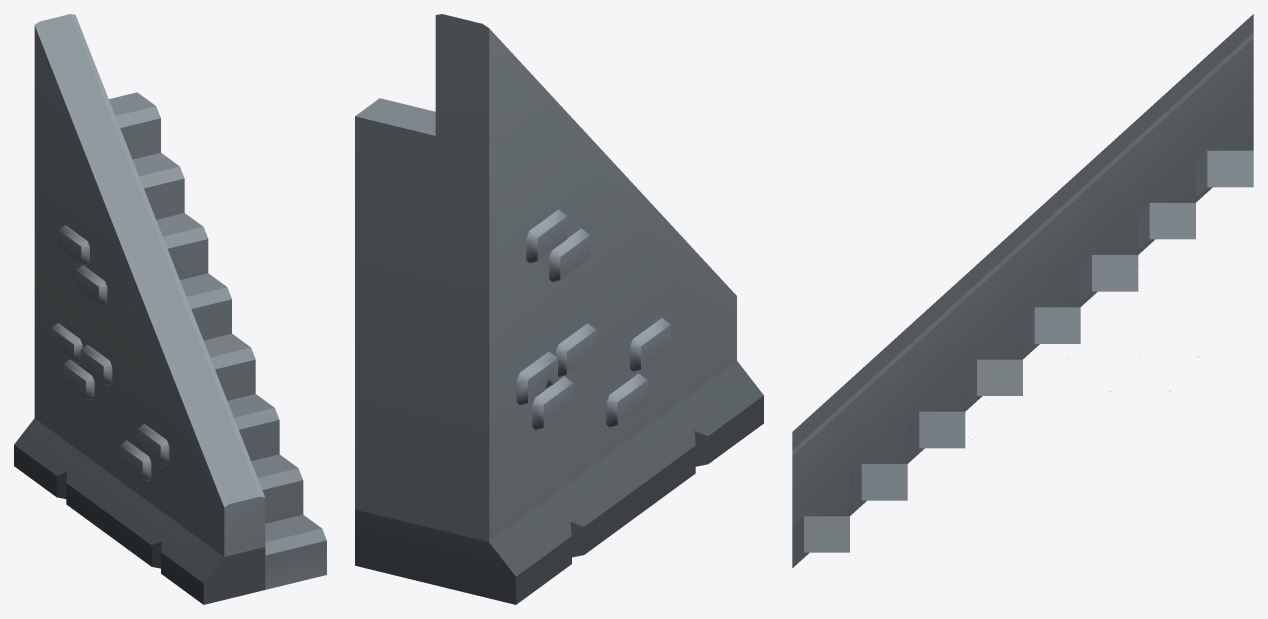
The model's file is stairs_modular_left.glb.
3 renders of one model, left to right at view 1: azimuth 30°, elevation 25°; view 2: azimuth 150°, elevation 25°; view 3: azimuth 270°, elevation 25°, orthographic. The views are drawn at different scales.
Visible parts, largest first — view 1: stairs_modular_left; view 2: stairs_modular_left; view 3: stairs_modular_left.
Boxes of the visible parts, x1,y1,x2,y2 form: stairs_modular_left: (14, 14, 326, 604); stairs_modular_left: (355, 14, 763, 604); stairs_modular_left: (792, 14, 1253, 567).
Size of the model in its own units: 1.5 by 5.1 by 4.
Materials: 1 (1 with a texture image).
